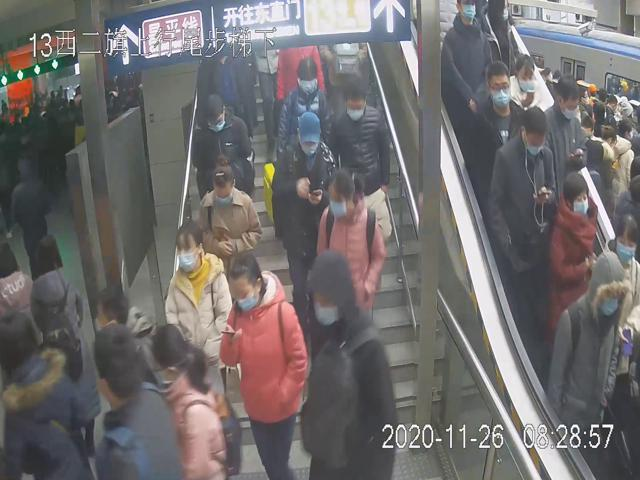person: (301, 248, 399, 480), (216, 246, 310, 480), (267, 109, 342, 340), (310, 162, 389, 335), (160, 221, 232, 410), (485, 107, 558, 277), (331, 78, 395, 259), (543, 171, 601, 349), (194, 151, 265, 286), (471, 54, 530, 211), (190, 83, 260, 214), (274, 54, 333, 171)
